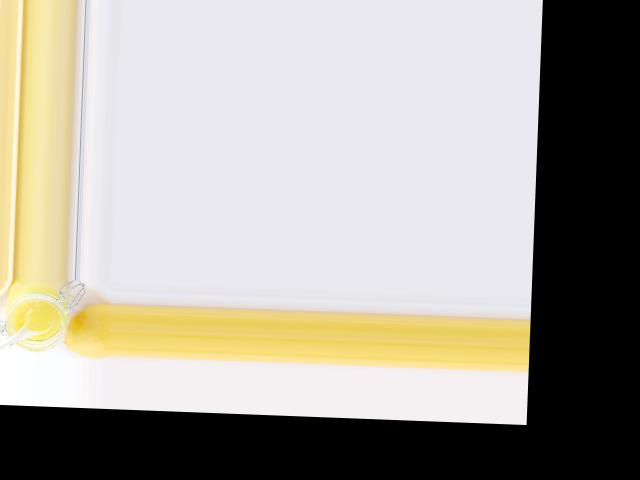lemon: (61, 302, 111, 356)
